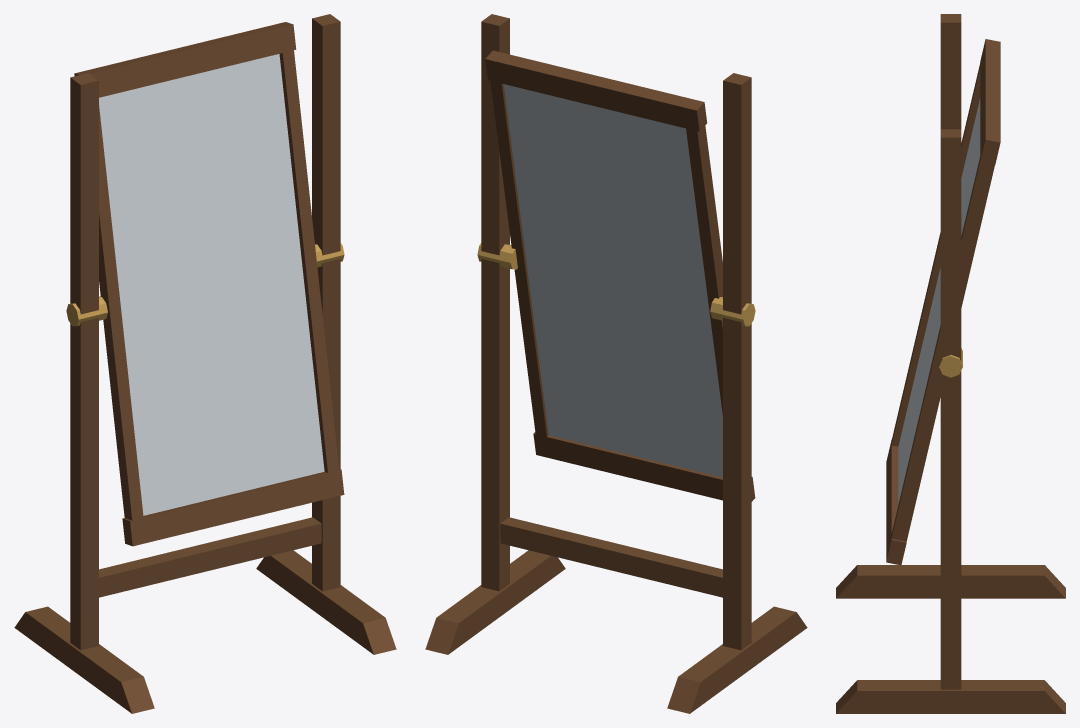
The model's file is FN_Mirror_Cheval.glb.
The picture shows the model from 3 angles, left to right: view 1: azimuth 30°, elevation 25°; view 2: azimuth 150°, elevation 25°; view 3: azimuth 270°, elevation 25°; orthographic projection. The views are drawn at different scales.
Visible parts, largest first — view 1: FN_Mirror_Cheval; view 2: FN_Mirror_Cheval; view 3: FN_Mirror_Cheval.
Part boxes in pixels (x1,y1,x2,y2): FN_Mirror_Cheval: [14, 14, 396, 713]; FN_Mirror_Cheval: [425, 14, 807, 713]; FN_Mirror_Cheval: [836, 14, 1065, 713].
Bounding box in the file's own units: 0.704 × 1.49 × 0.54.
1 material, 1 textured.
